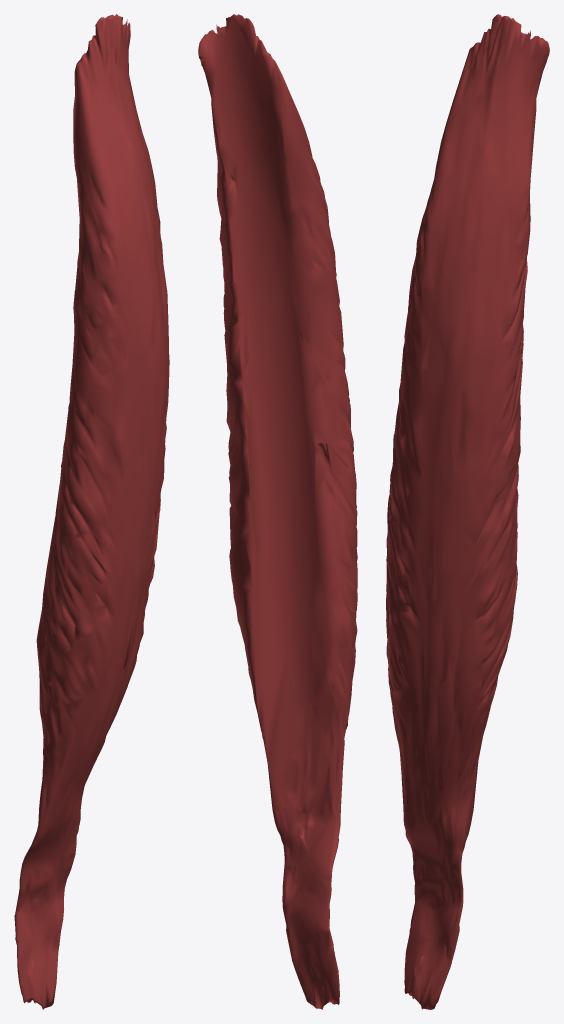
File: vastus-intermedius-muscle-l.glb
3 views of the same model, side by side, from view 1: azimuth 30°, elevation 25°; view 2: azimuth 150°, elevation 25°; view 3: azimuth 330°, elevation 25° (orthographic). The views are drawn at different scales.
Visible parts, largest first — view 1: Vastus intermedius muscle.l; view 2: Vastus intermedius muscle.l; view 3: Vastus intermedius muscle.l.
Part boxes in pixels (left/top/right/bottom): Vastus intermedius muscle.l: left=14, top=14, right=169, bottom=1009; Vastus intermedius muscle.l: left=198, top=14, right=357, bottom=1009; Vastus intermedius muscle.l: left=386, top=14, right=549, bottom=1009.
Bounding box in the file's own units: 0.0566 × 0.4084 × 0.0478.
